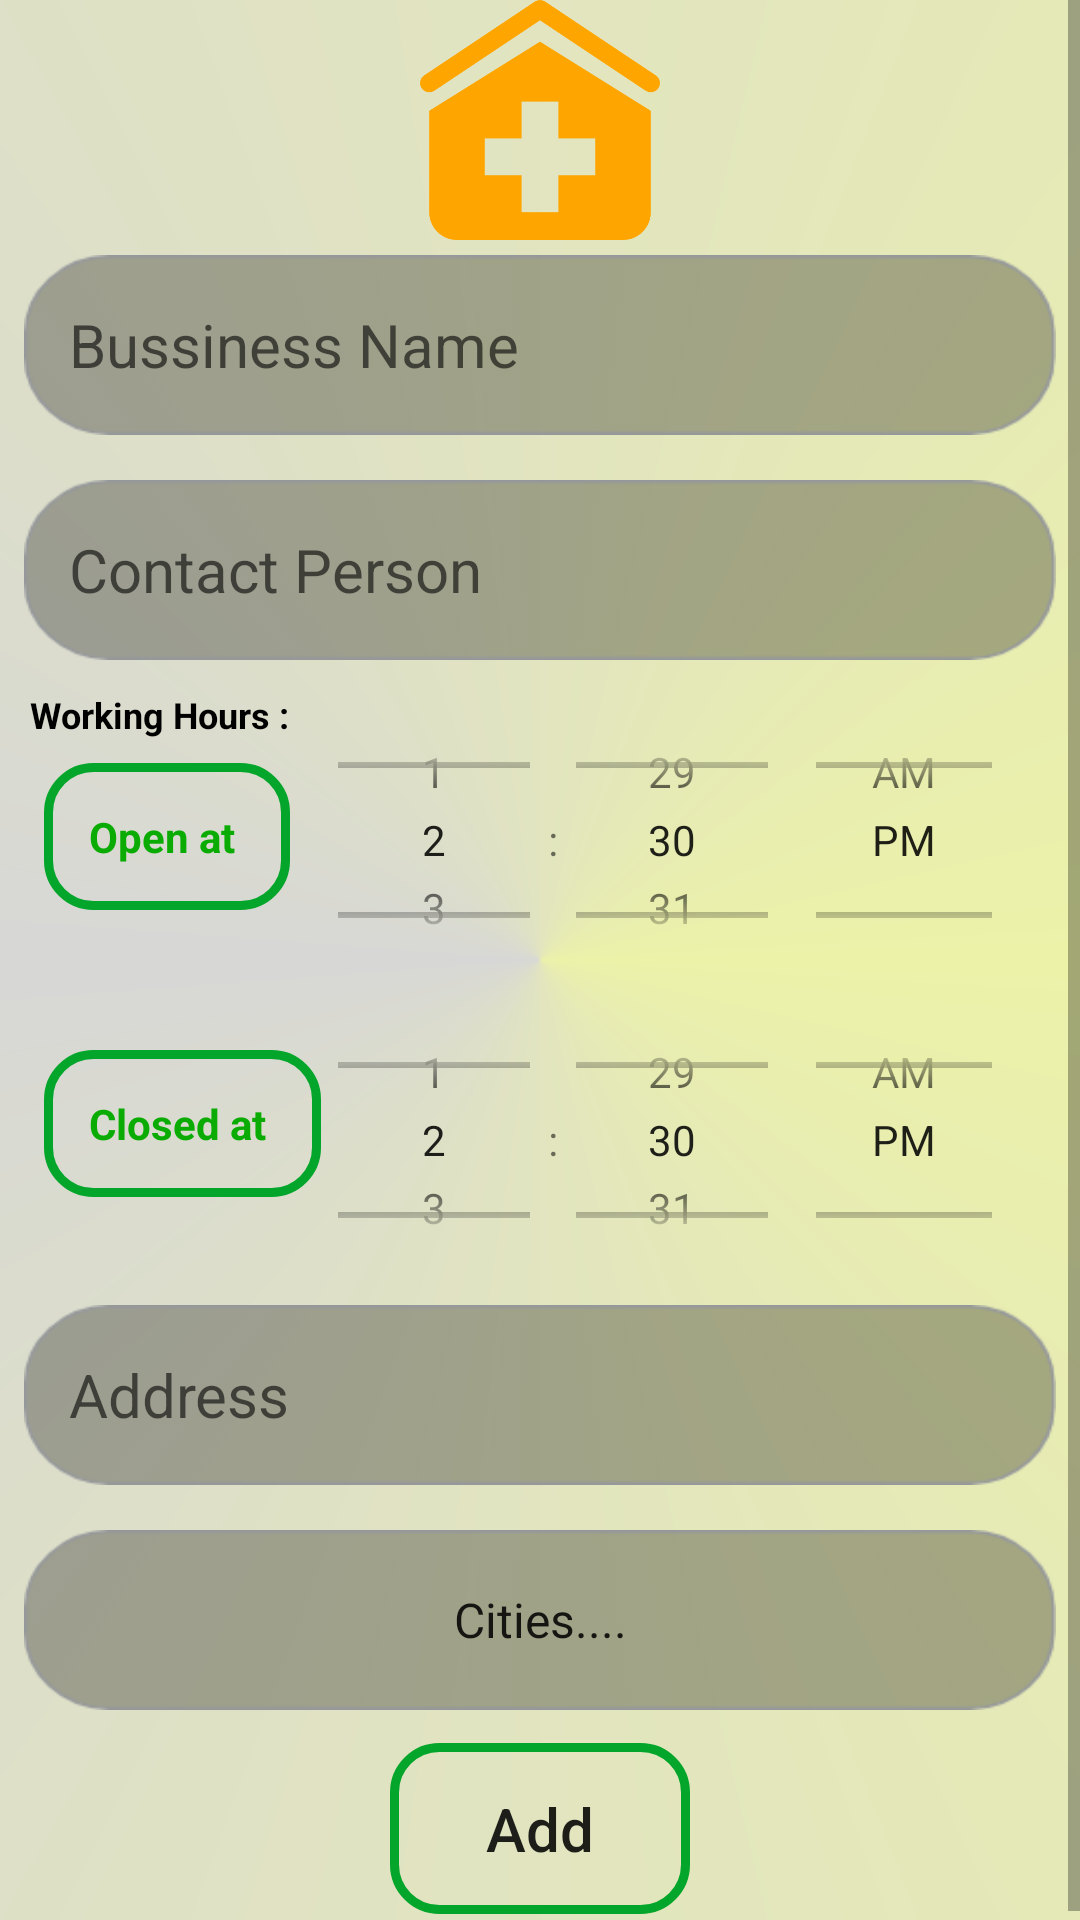

Where icons sit on this 1080*1920 app screen, as Rect(x1, y1, x2, y2):
clinic: Rect(420, 0, 660, 240)
